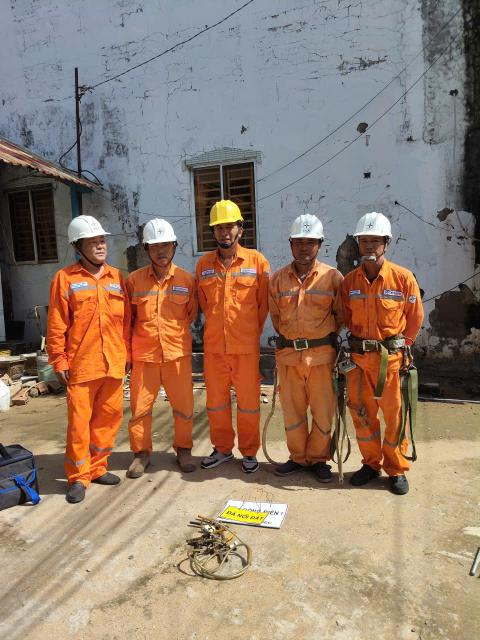harness: (339, 324, 411, 359), (265, 330, 336, 356)
helmet: (200, 194, 253, 232), (349, 202, 390, 244), (64, 209, 112, 244), (280, 211, 329, 245), (136, 216, 184, 248)
shoes: (335, 453, 385, 488), (195, 434, 237, 474), (266, 450, 313, 480), (230, 447, 267, 480), (305, 450, 338, 487), (120, 448, 155, 482), (64, 474, 88, 512), (385, 464, 410, 499), (173, 442, 196, 479), (86, 466, 121, 489)
